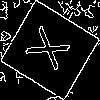X: (24, 25, 80, 77)
